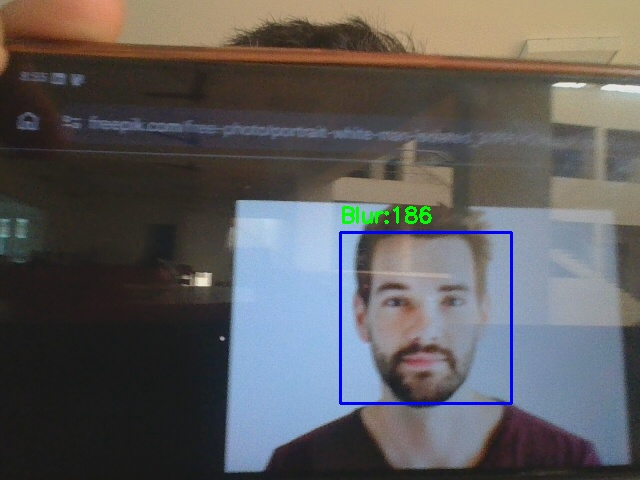fake: (340, 232, 511, 403)
